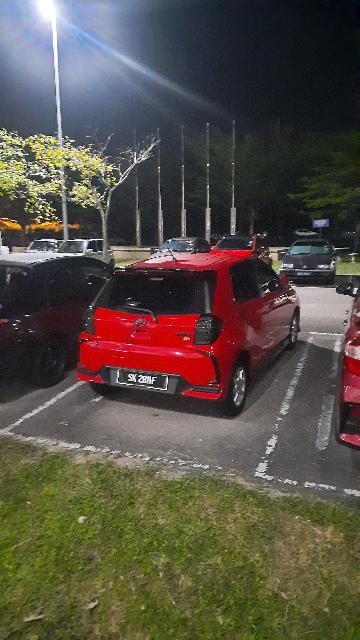License_Plate: (117, 366, 170, 397)
car: (74, 251, 311, 421), (1, 246, 153, 401)
